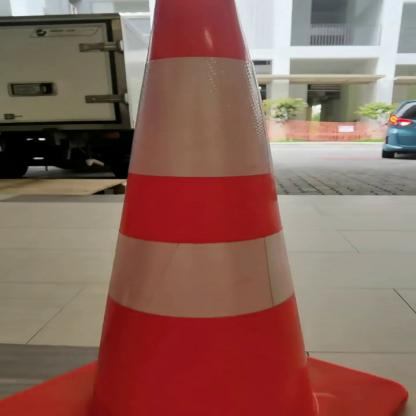cone: (0, 0, 411, 416)
